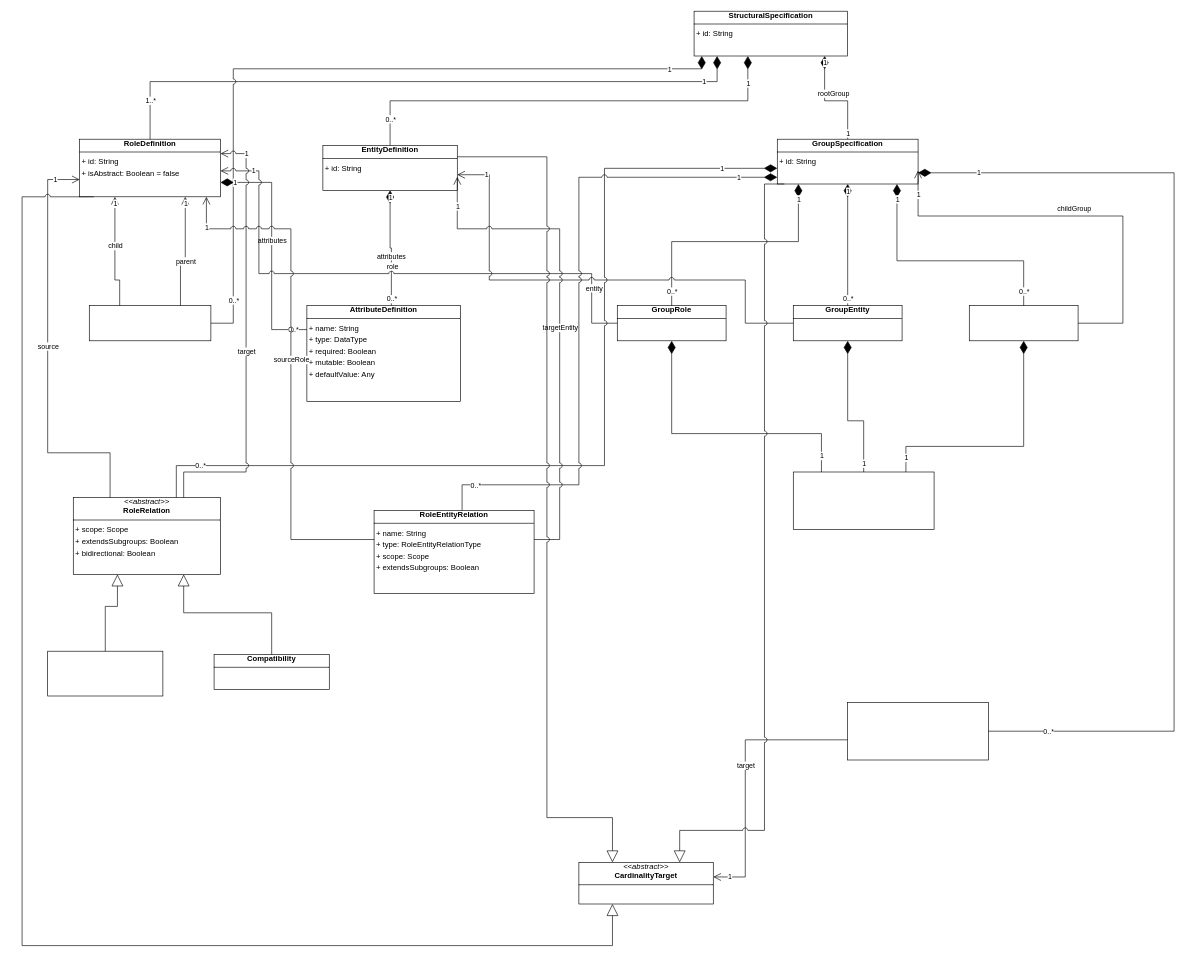
This 1198x968 diagram has some shape labels left out. The shapes that lost their labels are listed below. From the top down, each one's box as (x1, y1, x2, y2) in pixels, then its label:
(89, 305, 211, 341): RoleInheritance
(969, 305, 1078, 341): SubGroup
(793, 471, 934, 530): Cardinality + min: Integer = 0 + max: Integer = unlimited
(47, 651, 163, 696): Link + type: LinkType
(847, 702, 988, 760): CardinalityConstraint + min: Integer + max: Integer
